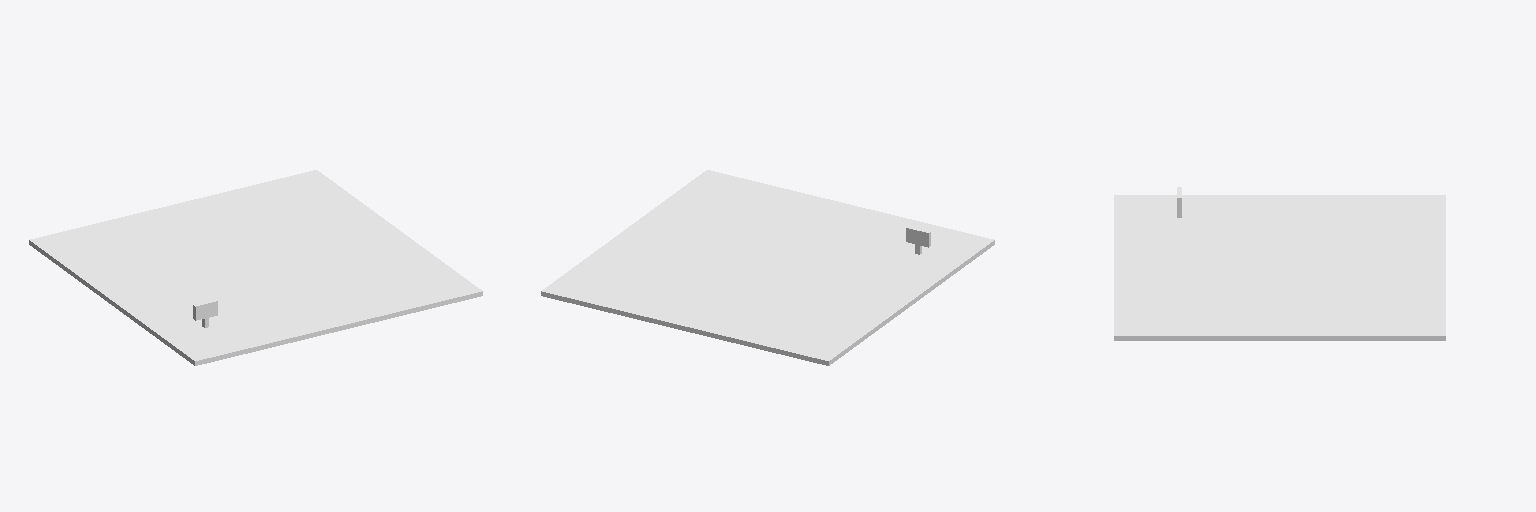
The model's file is Land+4+sale.obj.
The picture shows the model from 3 angles: view 1: azimuth 30°, elevation 25°; view 2: azimuth 150°, elevation 25°; view 3: azimuth 270°, elevation 25°; orthographic projection.
Size of the model in its own units: 63 by 6 by 63.